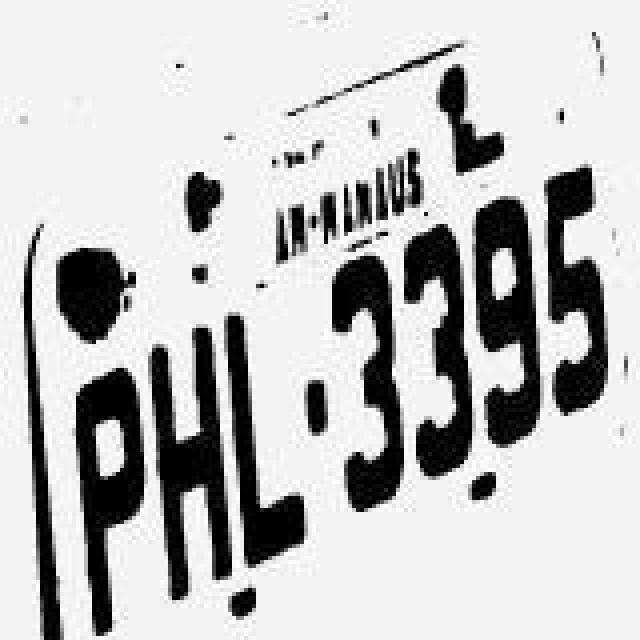3: (330, 256, 406, 528), (404, 224, 476, 480)
5: (544, 156, 608, 436)
9: (474, 198, 550, 458)
H: (148, 328, 228, 592)
L: (226, 314, 310, 566)
P: (70, 360, 154, 632)
